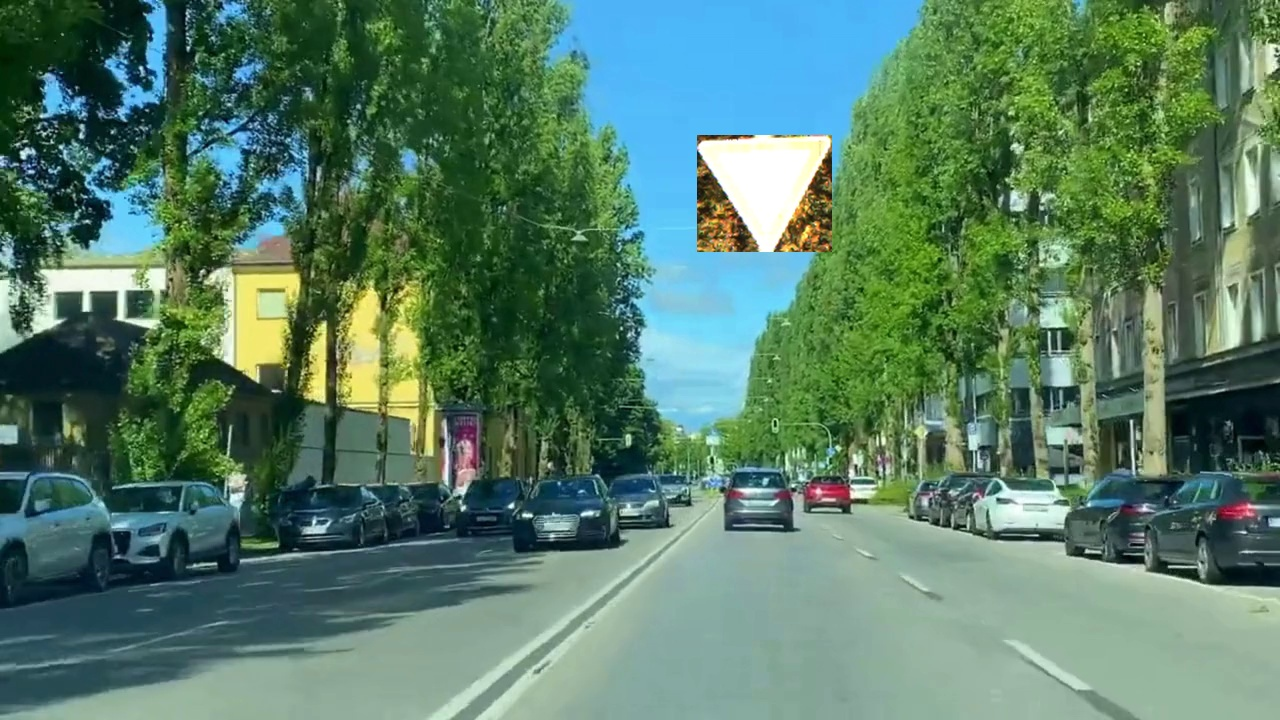Yield: (697, 135, 832, 252)
